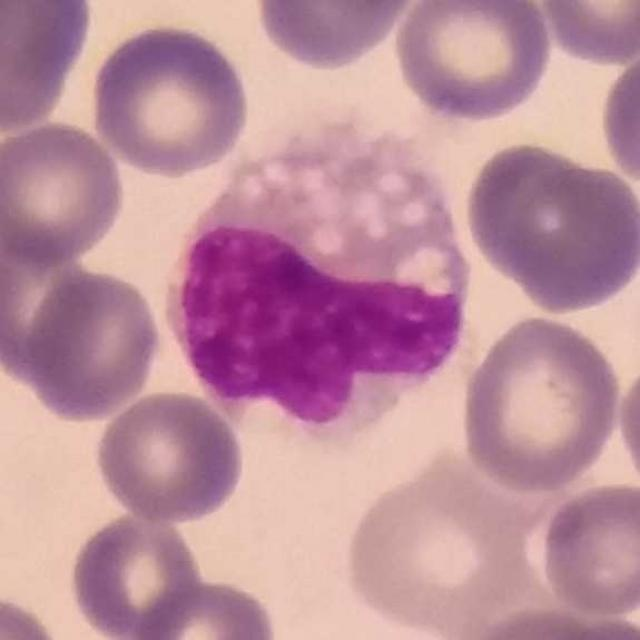Monocyte: (162, 114, 468, 444)
RBC: (339, 456, 536, 639), (459, 137, 640, 315), (457, 312, 626, 495), (85, 19, 254, 181), (15, 263, 166, 425), (90, 388, 248, 526), (388, 0, 556, 125), (0, 117, 129, 269), (65, 507, 204, 640), (0, 226, 110, 376), (535, 478, 640, 622), (0, 0, 97, 132), (249, 0, 418, 73), (130, 574, 281, 640), (533, 0, 640, 67), (595, 39, 640, 197), (454, 602, 640, 640), (613, 347, 640, 509), (0, 590, 67, 640), (0, 0, 24, 87)
